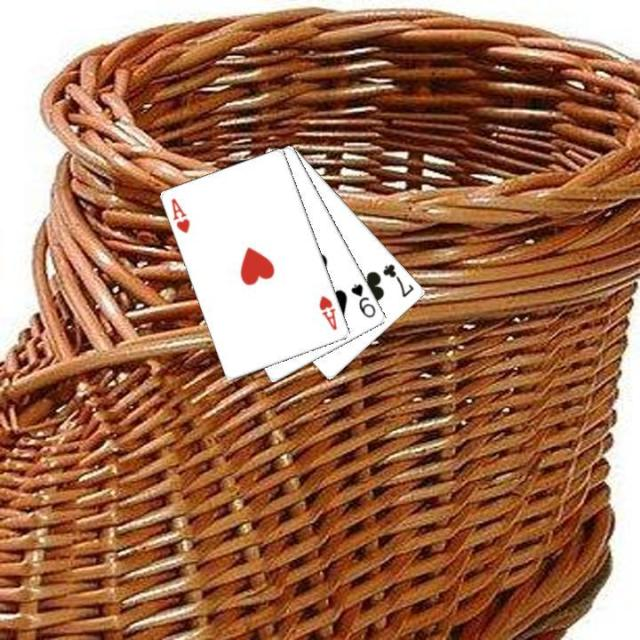7C: (379, 260, 416, 300)
9S: (348, 280, 378, 320)
AH: (316, 292, 340, 332), (168, 194, 192, 234)
